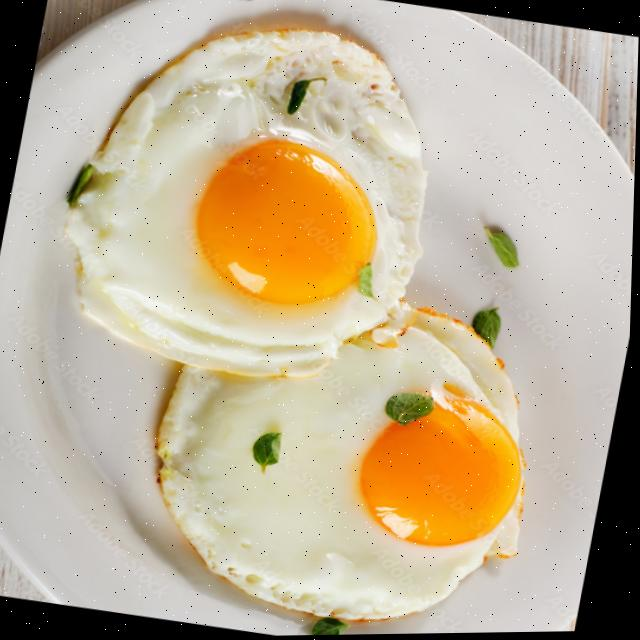Egg: (69, 30, 427, 379), (160, 308, 527, 622)
